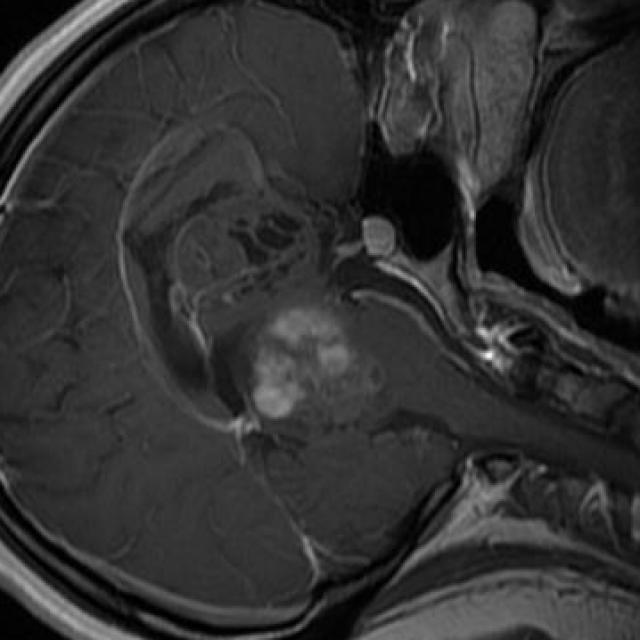glioma: (171, 196, 376, 424)
